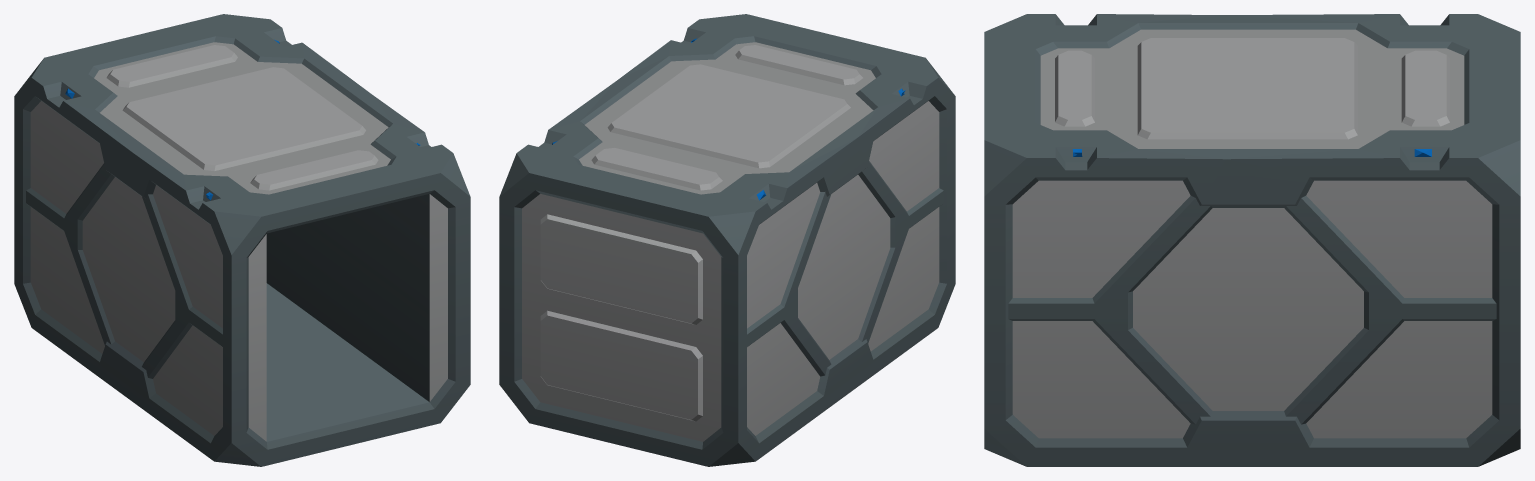
Rendered from Container_type_B_007.fbx.
The picture shows the model from 3 angles, left to right: view 1: azimuth 30°, elevation 25°; view 2: azimuth 150°, elevation 25°; view 3: azimuth 270°, elevation 25°; orthographic projection. The views are drawn at different scales.
Parts seen in each view (by area): view 1: Container_type_B_007; view 2: Container_type_B_007; view 3: Container_type_B_007.
Boxes of the visible parts, left/top/right/bottom form: Container_type_B_007: left=14, top=14, right=470, bottom=466; Container_type_B_007: left=499, top=14, right=955, bottom=466; Container_type_B_007: left=984, top=14, right=1520, bottom=466.
Bounding box in the file's own units: 240 × 378 × 241.
